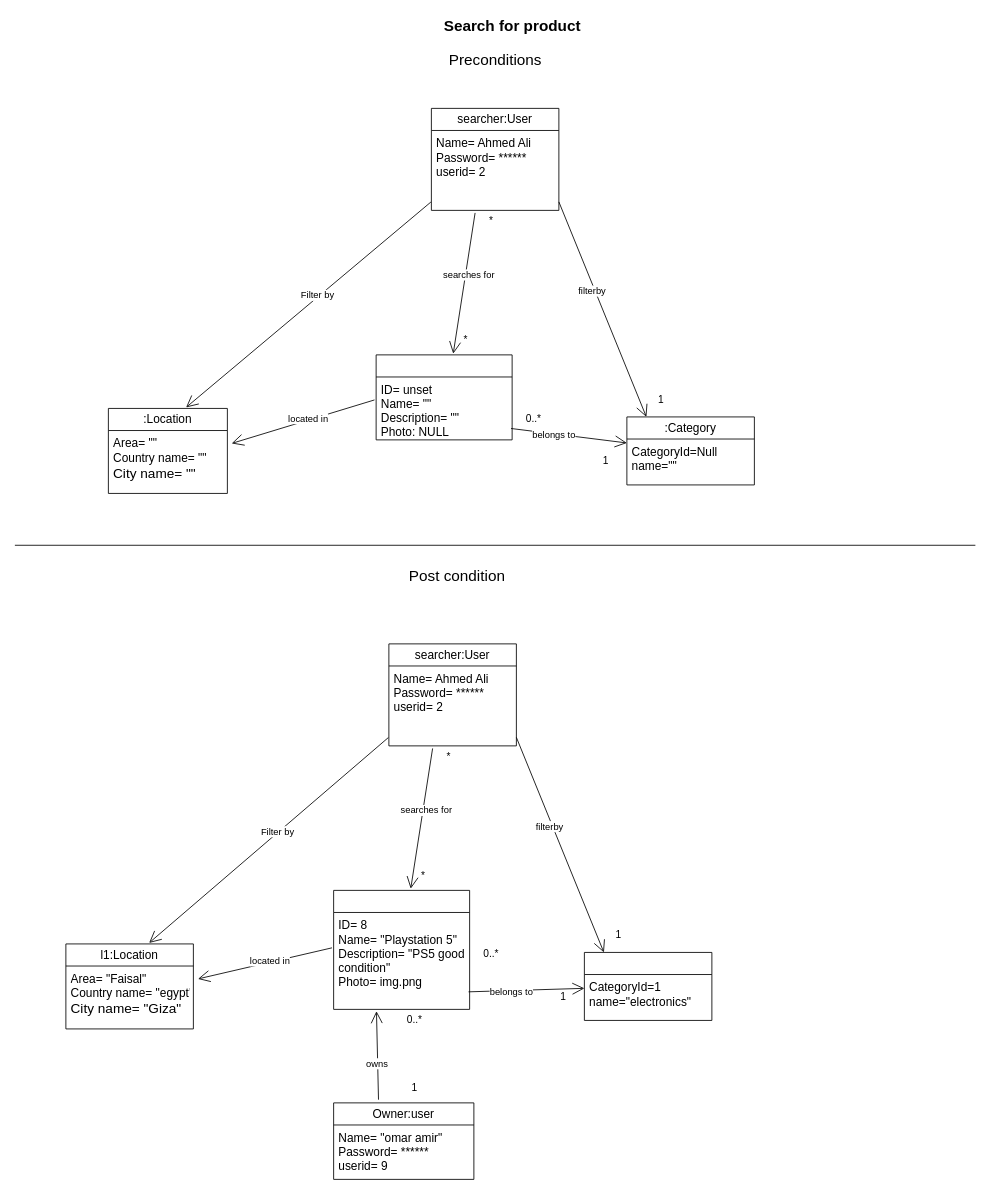
This 990x1196 diagram has some shape labels left out. Each missing label, with the box of its shape:
:product: (375, 354, 512, 440)
e:Category: (584, 952, 712, 1020)
p1:product: (333, 890, 470, 1009)
